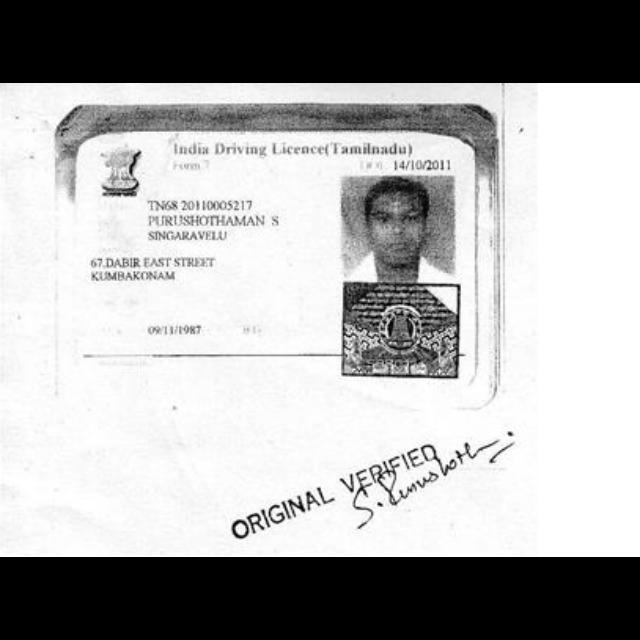driving_licence: (69, 124, 483, 396)
